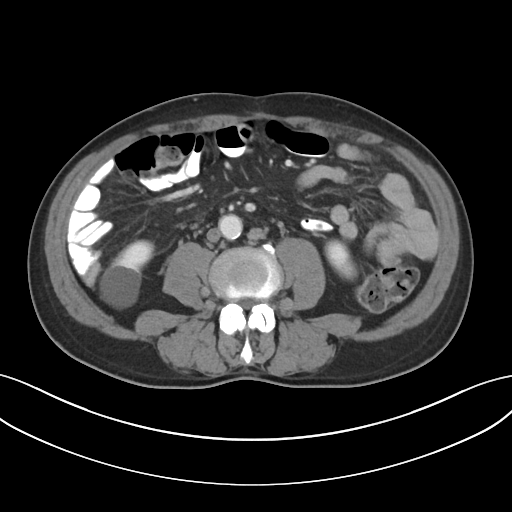Lesion: (99, 267, 143, 312)
